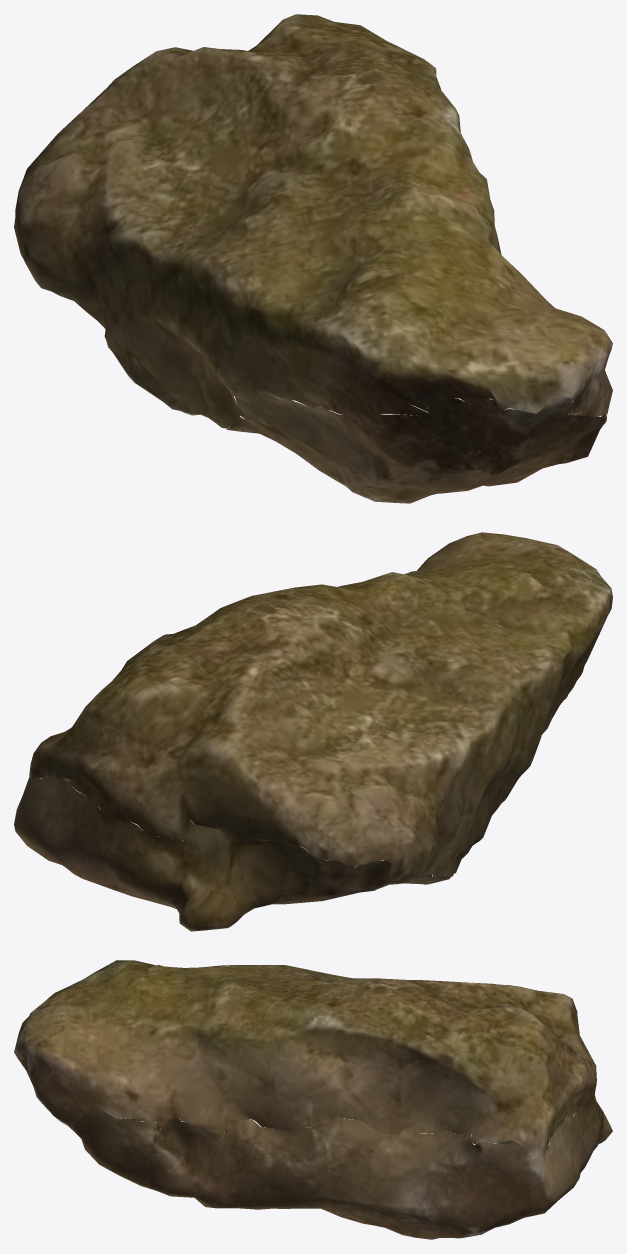
File: rock-moss-set-01-rock05.glb
3 renders of one model, top to bottom at view 1: azimuth 30°, elevation 25°; view 2: azimuth 150°, elevation 25°; view 3: azimuth 270°, elevation 25°, orthographic. The views are drawn at different scales.
Visible parts, largest first — view 1: rock_moss_set_01_rock05; view 2: rock_moss_set_01_rock05; view 3: rock_moss_set_01_rock05.
Boxes of the visible parts, left/top/right/bottom form: rock_moss_set_01_rock05: left=14, top=14, right=612, bottom=503; rock_moss_set_01_rock05: left=14, top=532, right=612, bottom=931; rock_moss_set_01_rock05: left=14, top=960, right=612, bottom=1239.
Size of the model in its own units: 1.82 by 1.21 by 3.
Materials: 1 (1 with a texture image).
